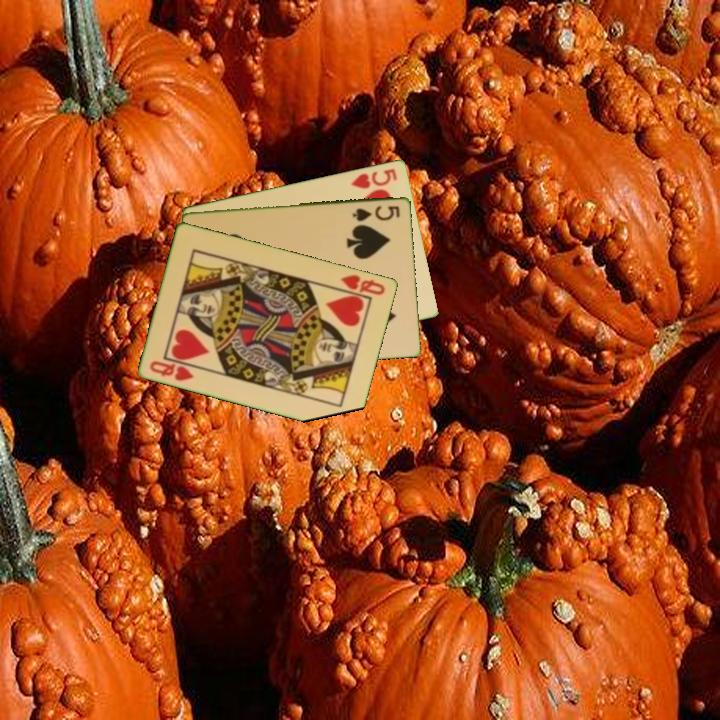5h: (348, 165, 400, 191)
5s: (349, 202, 403, 224)
Qh: (146, 357, 197, 384), (338, 271, 388, 298)
